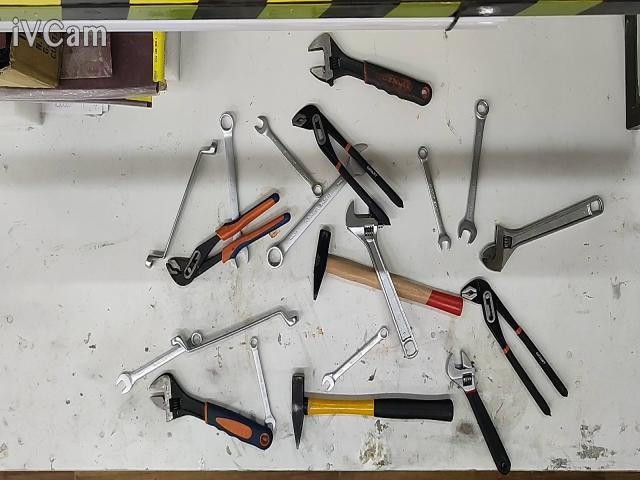Adjustable spanner: (346, 202, 419, 358), (149, 373, 272, 450), (480, 195, 604, 271), (308, 33, 432, 105), (445, 350, 510, 474)
Gas wrench: (461, 277, 568, 415), (292, 105, 404, 224), (166, 193, 290, 286)
Hammer: (312, 228, 462, 317), (291, 372, 454, 446)
Wrench: (266, 142, 374, 268), (145, 140, 218, 268), (255, 115, 324, 197), (171, 310, 299, 353), (116, 331, 203, 392), (220, 112, 250, 270), (458, 100, 489, 243), (322, 327, 389, 392), (418, 147, 451, 249), (250, 337, 276, 430)
